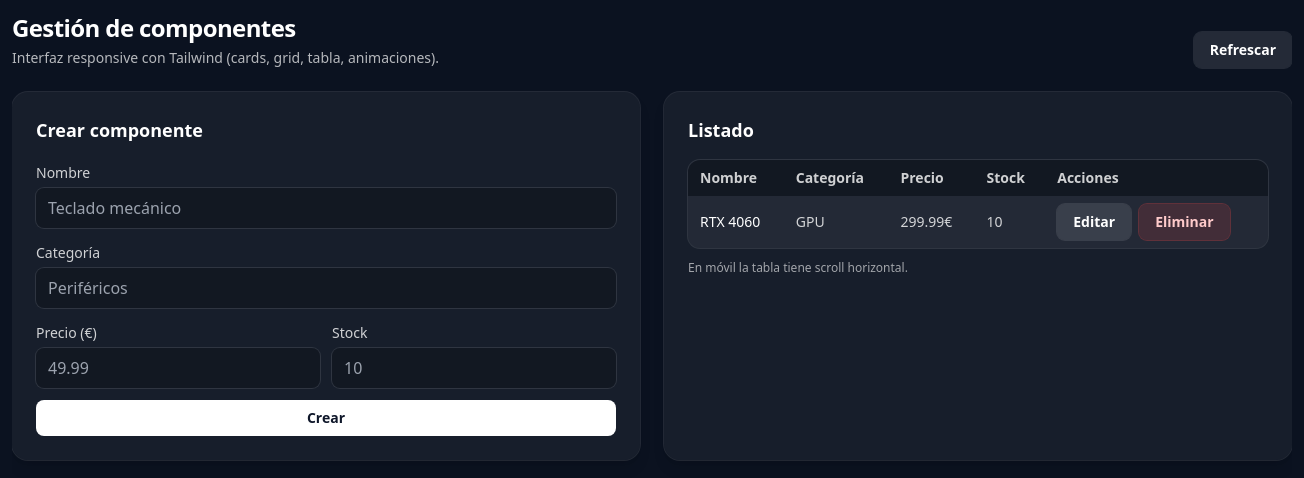
Test: ComponenteList › debe eliminar un componente de la lista
Check: the text "RTX 4060" is shown, box [688,196,784,248]
What coordinates should you click on to do the following:
click the button "Eliminar"
I would click on:
 (1184, 222)
Its box is [1139,204,1230,240].
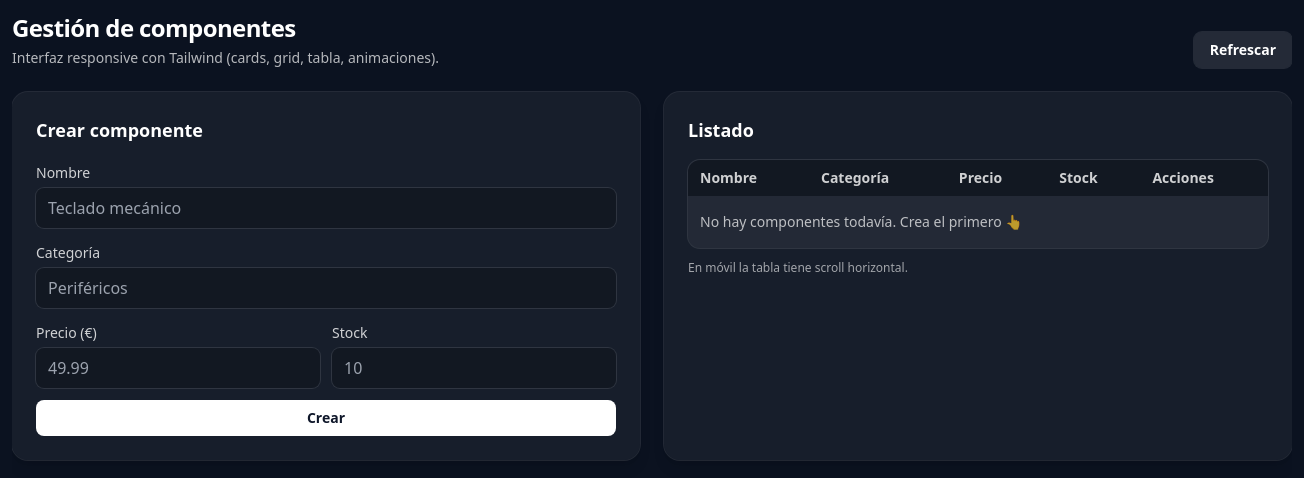
Check: the text "RTX 4060" is gone
